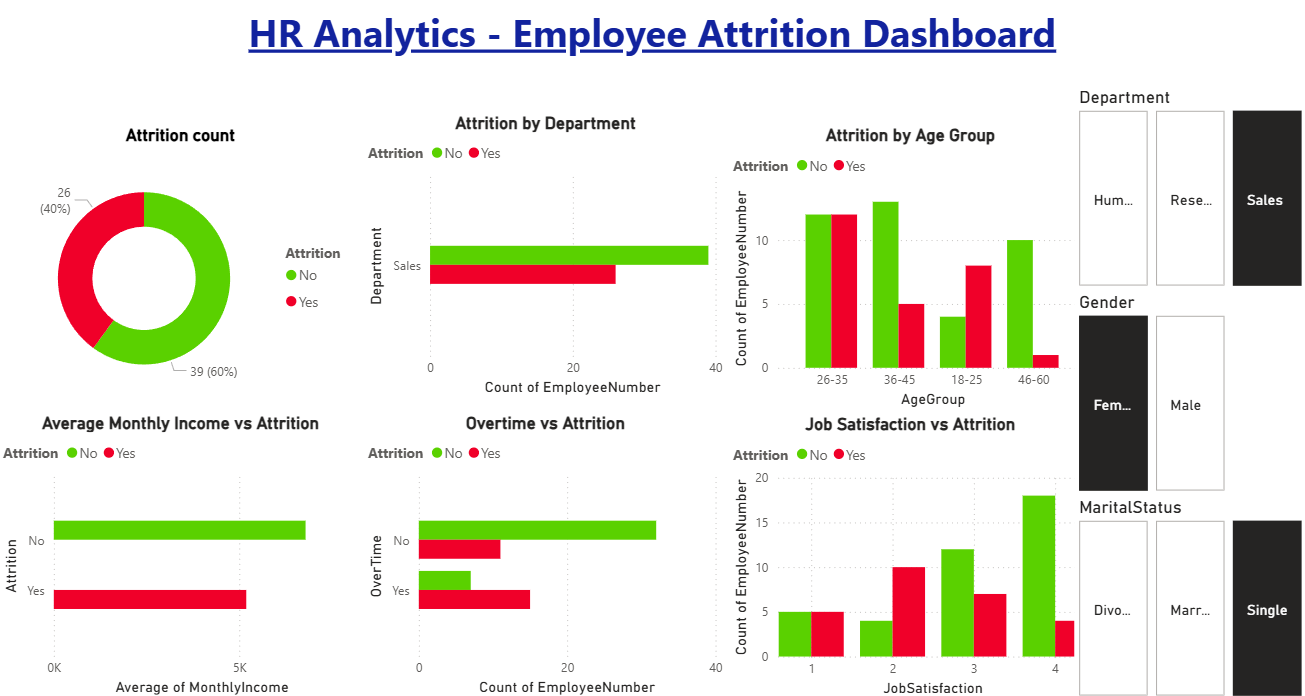

What the dashboard file says about the page in this screenshot:
{"tool":"powerbi","page":{"name":"Page 1","canvas":[1280,720],"ordinal":0},"visuals":[{"type":"donutChart","title":"Attrition count","fields":{"Category":["HR-Employee-Attrition.Attrition"],"Y":["CountNonNull(HR-Employee-Attrition.Attrition)"]},"box":[0,156.5,357.1,281.3],"z":0},{"type":"clusteredBarChart","title":"Attrition by Department","fields":{"Category":["HR-Employee-Attrition.Department"],"Series":["HR-Employee-Attrition.Attrition"],"Y":["CountNonNull(HR-Employee-Attrition.EmployeeNumber)"]},"box":[357.1,144.3,357.1,281.3],"z":1},{"type":"clusteredColumnChart","title":"Attrition by Age Group","fields":{"Series":["HR-Employee-Attrition.Attrition"],"Y":["CountNonNull(HR-Employee-Attrition.EmployeeNumber)"],"Category":["HR-Employee-Attrition.AgeGroup"]},"box":[714.1,156.5,357.1,281.3],"z":2},{"type":"clusteredBarChart","title":"Average Monthly Income vs Attrition","fields":{"Category":["HR-Employee-Attrition.Attrition"],"Y":["Avg(HR-Employee-Attrition.MonthlyIncome)"],"Series":["HR-Employee-Attrition.Attrition"]},"box":[0,437.8,357.1,281.3],"z":3},{"type":"clusteredBarChart","title":"Overtime vs Attrition","fields":{"Category":["HR-Employee-Attrition.OverTime"],"Y":["CountNonNull(HR-Employee-Attrition.EmployeeNumber)"],"Series":["HR-Employee-Attrition.Attrition"]},"box":[357.1,437.8,357.1,281.3],"z":4},{"type":"clusteredColumnChart","title":"Job Satisfaction vs Attrition","fields":{"Category":["HR-Employee-Attrition.JobSatisfaction"],"Y":["CountNonNull(HR-Employee-Attrition.EmployeeNumber)"],"Series":["HR-Employee-Attrition.Attrition"]},"box":[714.1,439,357.1,281.3],"z":5},{"type":"advancedSlicerVisual","fields":{"Values":["HR-Employee-Attrition.Department"]},"box":[1052.9,118.6,227.4,200.5],"z":6},{"type":"advancedSlicerVisual","fields":{"Values":["HR-Employee-Attrition.Gender"]},"box":[1052.9,319.2,227.4,200.5],"z":7},{"type":"advancedSlicerVisual","fields":{"Values":["HR-Employee-Attrition.MaritalStatus"]},"box":[1052.9,519.7,227.4,200.5],"z":8},{"type":"textbox","box":[0,35.5,1280.3,82.9],"z":9}]}

Visuals, with their boxes on the page's 1280x720 design canvas (x1, y1, x2, y2). These are canvas units, not pixel positions in the 1305x696 screenshot, which may show the page scaled, cropped or inside an application window:
"Attrition count" donutChart: (x1=0, y1=156, x2=357, y2=438)
"Attrition by Department" clusteredBarChart: (x1=357, y1=144, x2=714, y2=426)
"Attrition by Age Group" clusteredColumnChart: (x1=714, y1=156, x2=1071, y2=438)
"Average Monthly Income vs Attrition" clusteredBarChart: (x1=0, y1=438, x2=357, y2=719)
"Overtime vs Attrition" clusteredBarChart: (x1=357, y1=438, x2=714, y2=719)
"Job Satisfaction vs Attrition" clusteredColumnChart: (x1=714, y1=439, x2=1071, y2=720)
advancedSlicerVisual - HR-Employee-Attrition.Department: (x1=1053, y1=119, x2=1280, y2=319)
advancedSlicerVisual - HR-Employee-Attrition.Gender: (x1=1053, y1=319, x2=1280, y2=520)
advancedSlicerVisual - HR-Employee-Attrition.MaritalStatus: (x1=1053, y1=520, x2=1280, y2=720)
textbox: (x1=0, y1=36, x2=1280, y2=118)
